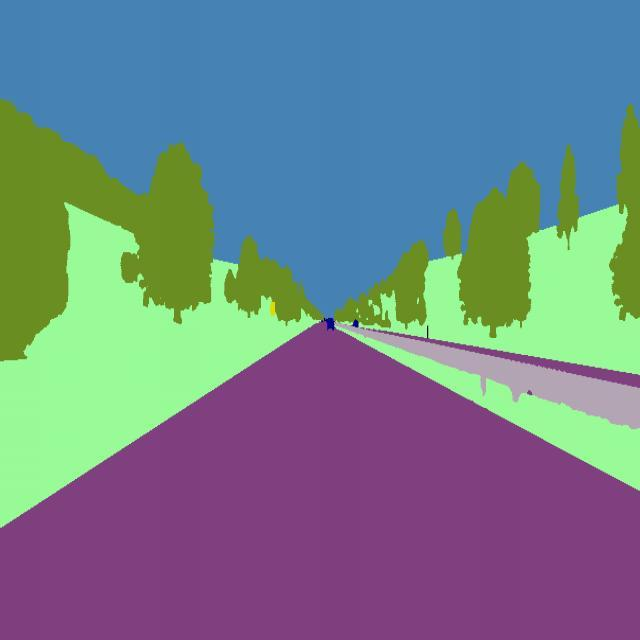safe: (322, 314, 337, 336), (352, 316, 362, 332)
